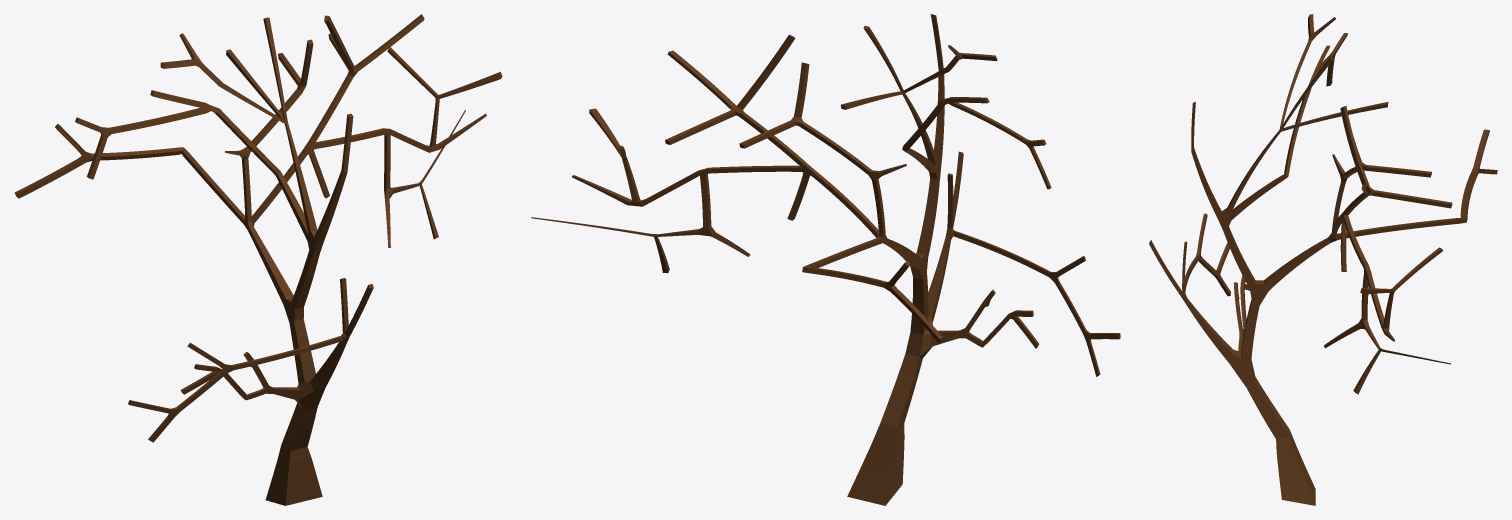
File: tree04.fbx
3 renders of one model, left to right at view 1: azimuth 30°, elevation 25°; view 2: azimuth 150°, elevation 25°; view 3: azimuth 270°, elevation 25°, orthographic. The views are drawn at different scales.
Parts seen in each view (by area): view 1: dalsizagacv2; view 2: dalsizagacv2; view 3: dalsizagacv2.
Part boxes in pixels (x1=…): dalsizagacv2: x1=14, y1=14, x2=502, y2=505; dalsizagacv2: x1=531, y1=14, x2=1120, y2=505; dalsizagacv2: x1=1149, y1=14, x2=1497, y2=505.
Size of the model in its own units: 1.45 by 1.45 by 1.04.
